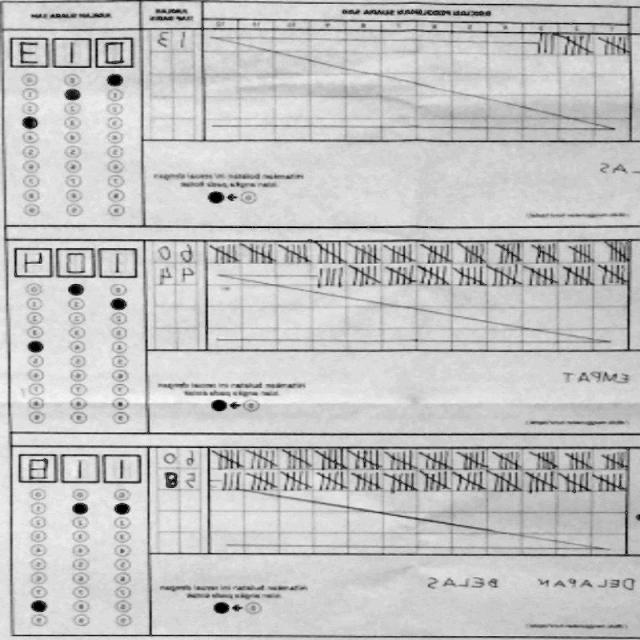Suara: (10, 29, 139, 71), (14, 238, 146, 279), (16, 446, 148, 486)
